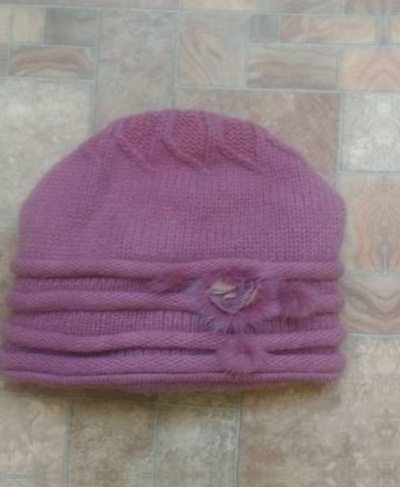Hat: (0, 103, 363, 400)
